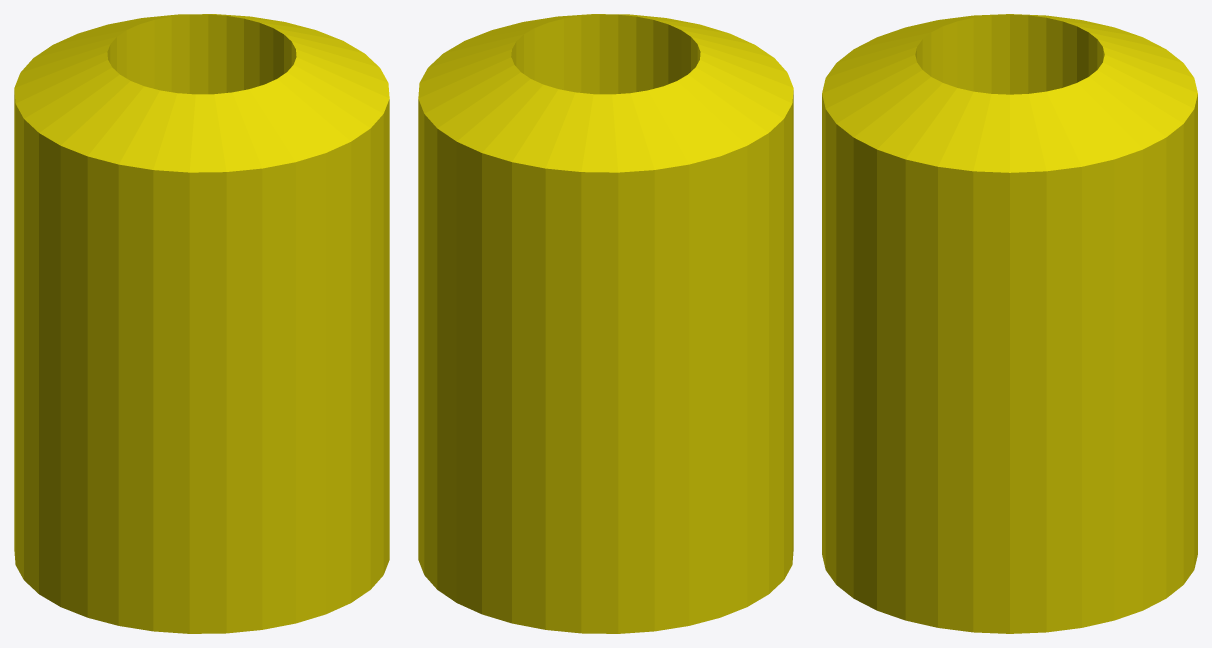
File: hole.fbx
3 views of the same model, side by side, from view 1: azimuth 30°, elevation 25°; view 2: azimuth 150°, elevation 25°; view 3: azimuth 270°, elevation 25° (orthographic).
Visible parts, largest first — view 1: Cylinder; view 2: Cylinder; view 3: Cylinder.
Boxes of the visible parts, bbox=[...] form: Cylinder: bbox=[14, 14, 389, 633]; Cylinder: bbox=[418, 14, 793, 633]; Cylinder: bbox=[822, 14, 1197, 633].
Size of the model in its own units: 476 by 699 by 476.
